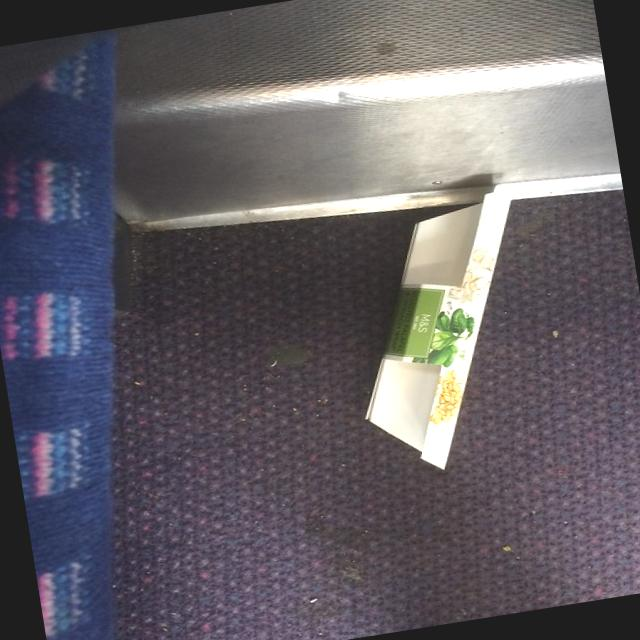Trash: (328, 183, 554, 484)
